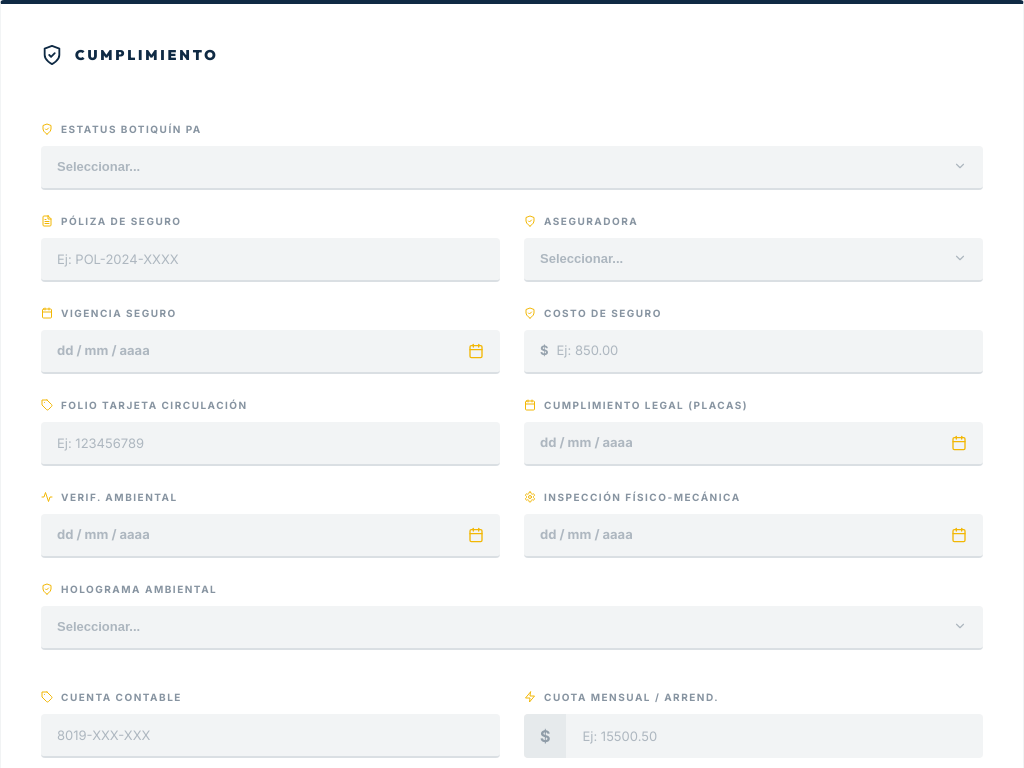
it: ComplianceSection › falls back to an empty option value when a hologram catalog entry has no code
Click the button "Seleccionar..." below "Holograma Ambiental" at point(99, 627), box [41,606,983,650]
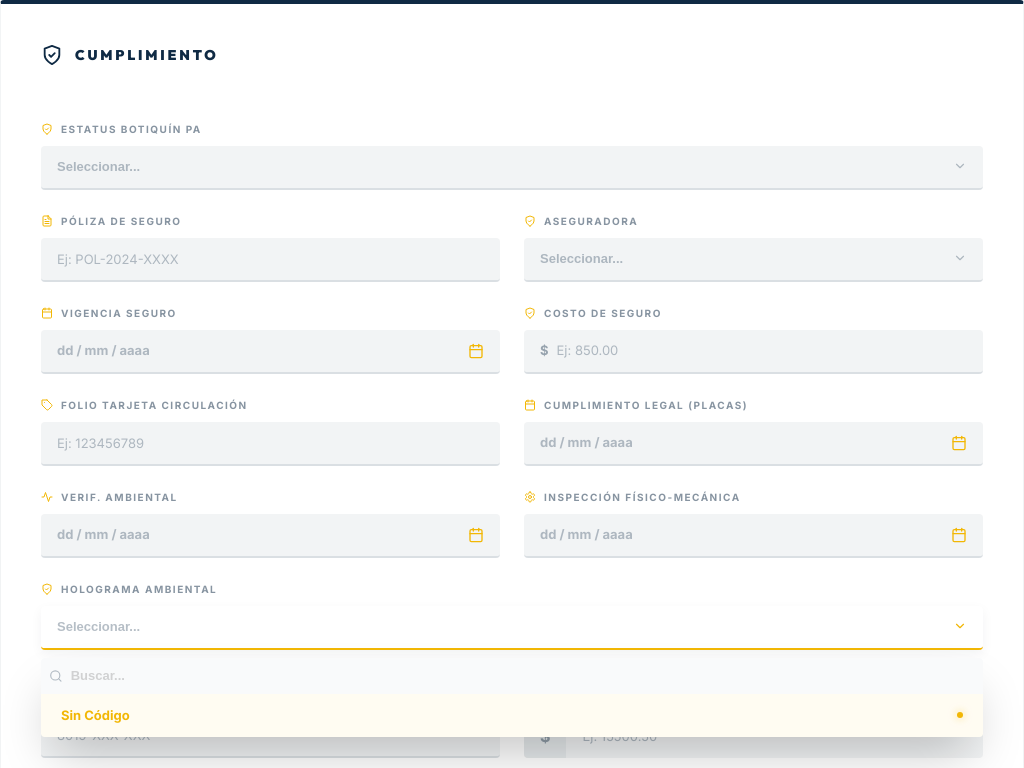
Check: the text "Sin Código" is shown, box [61,706,130,725]
